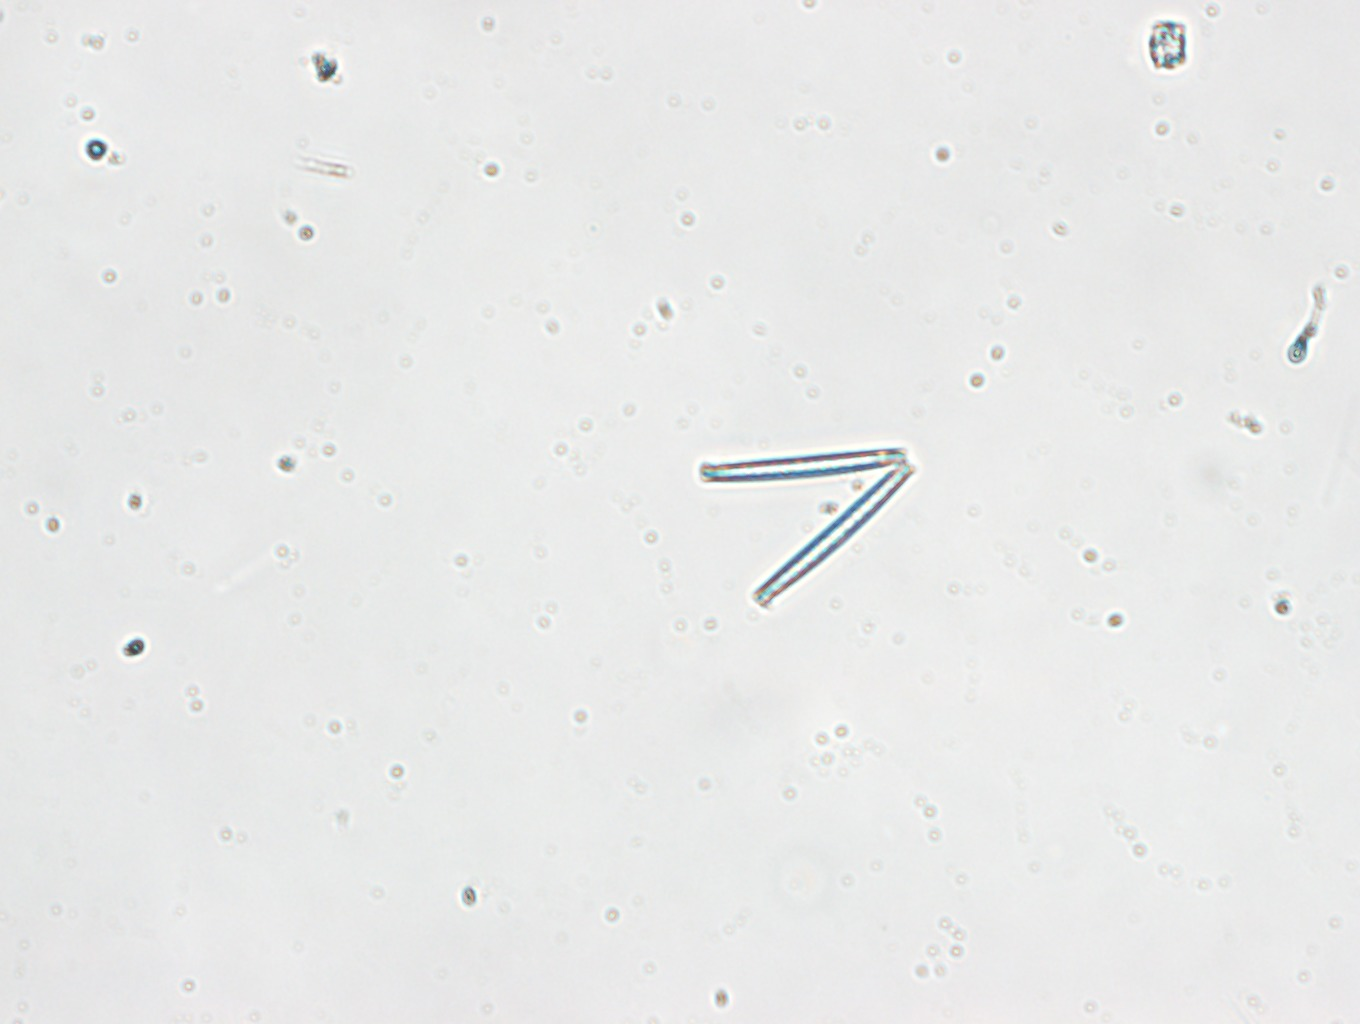thalassionema nitzschioides: (699, 446, 915, 609)
